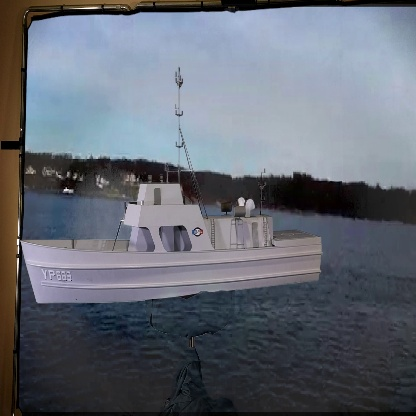YP689: (21, 64, 324, 308)
